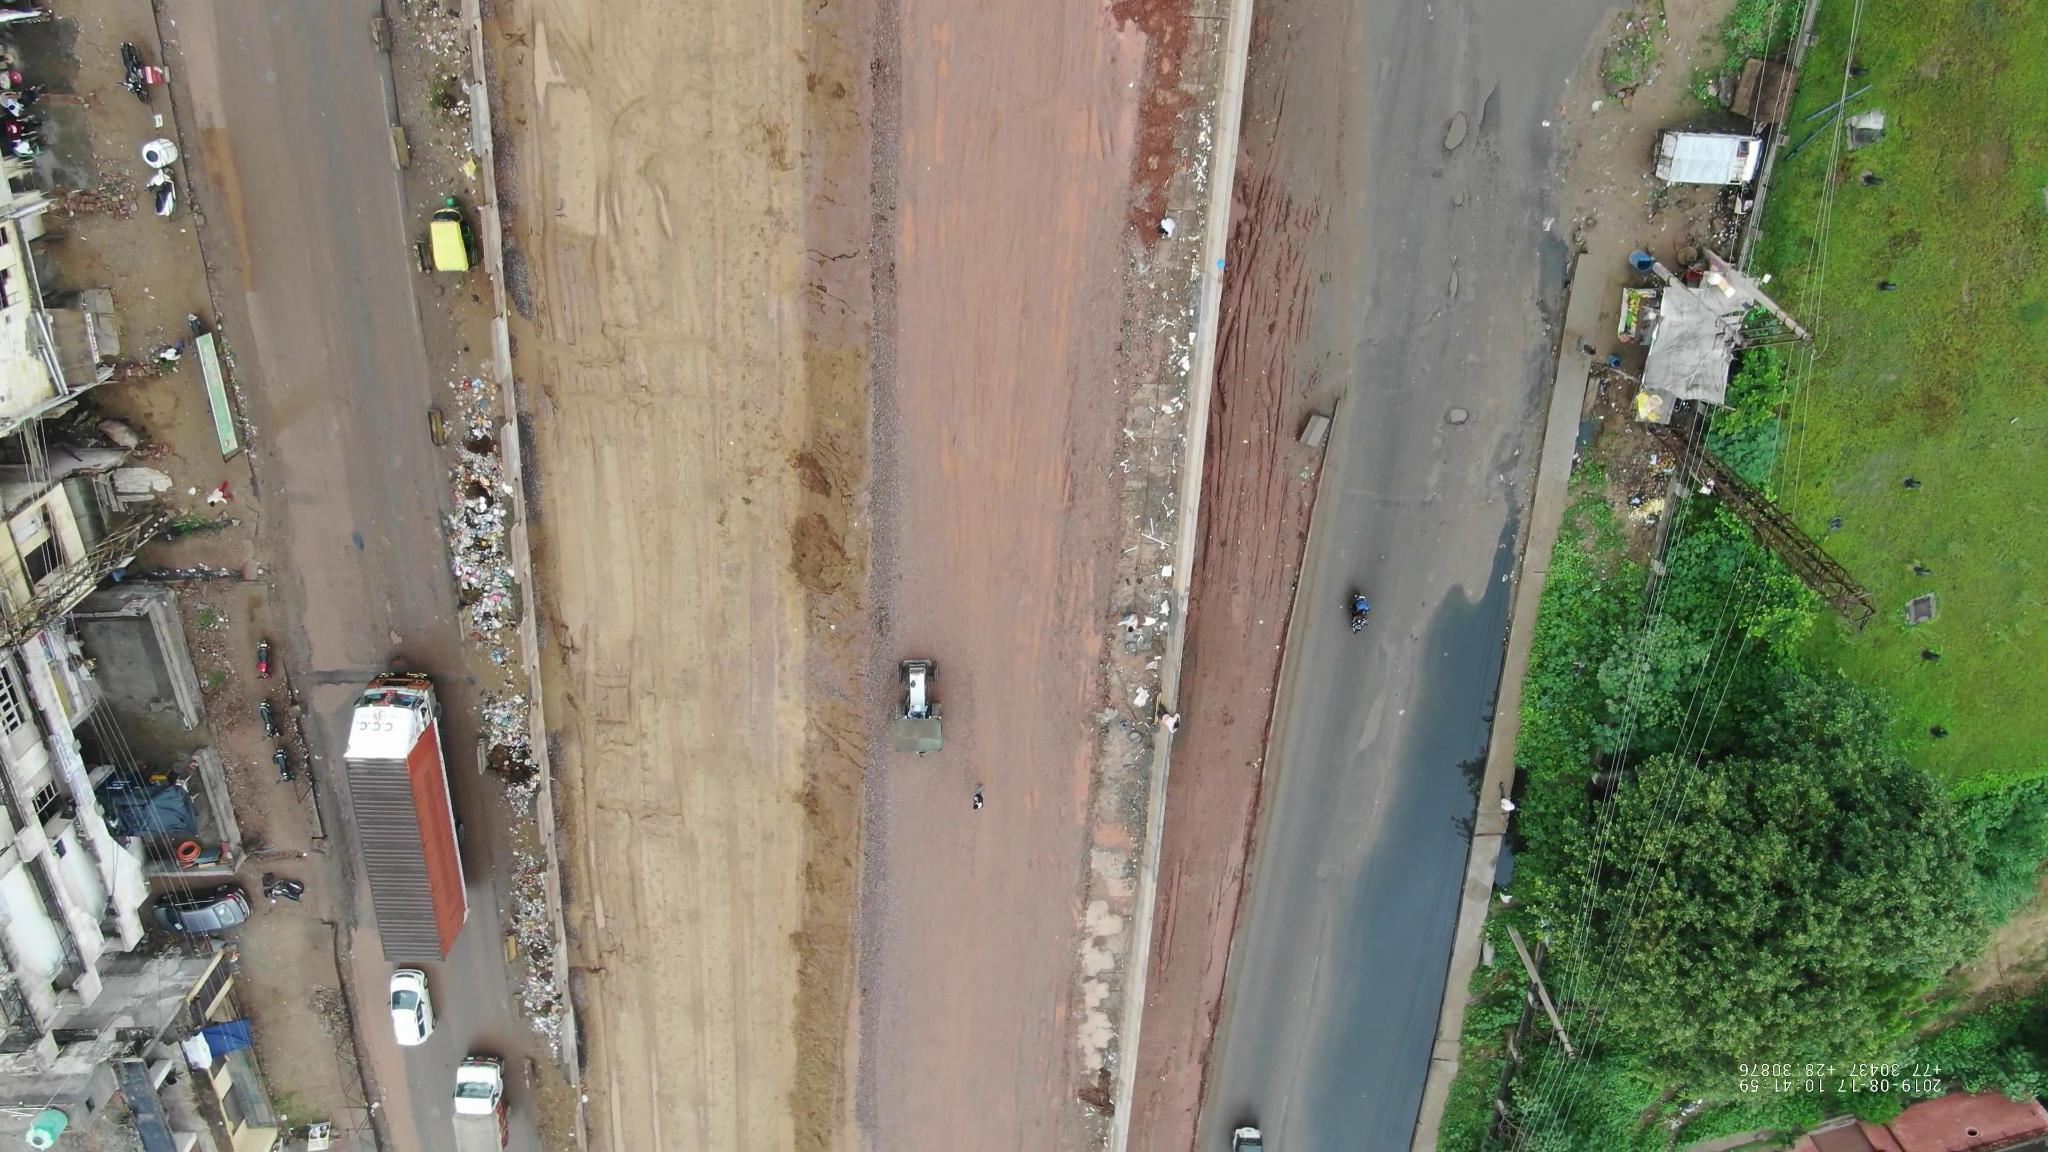Potholes: (1345, 639, 1409, 779), (1450, 120, 1485, 343), (383, 540, 418, 650), (1445, 356, 1483, 454)
Road_side_garbage: (497, 861, 577, 1048), (444, 437, 515, 610), (475, 671, 542, 852)
